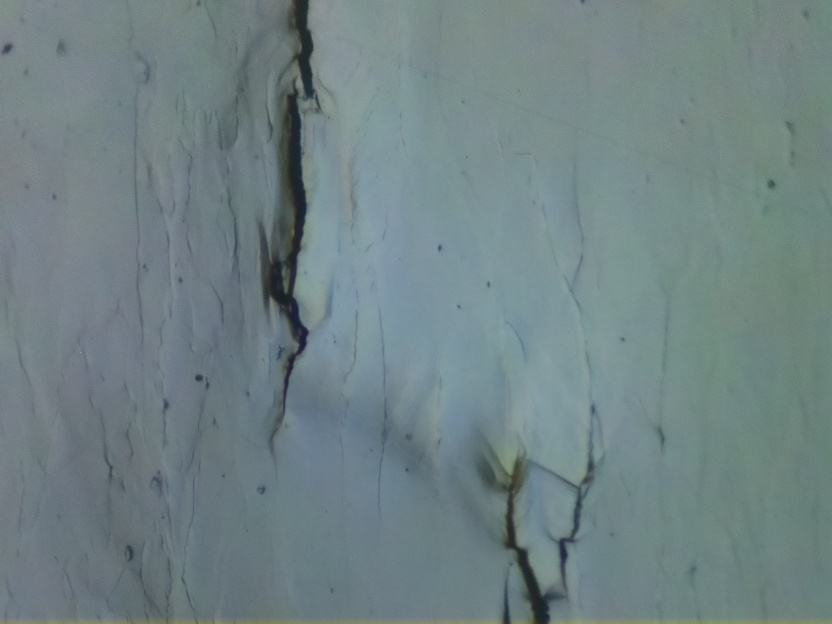crack: (498, 402, 600, 624), (261, 74, 308, 471), (291, 0, 322, 109)
